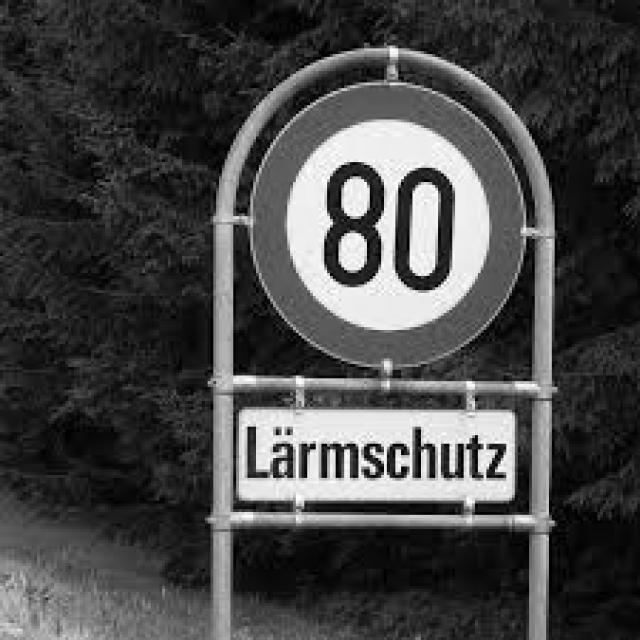speed_80: (244, 74, 531, 366)
